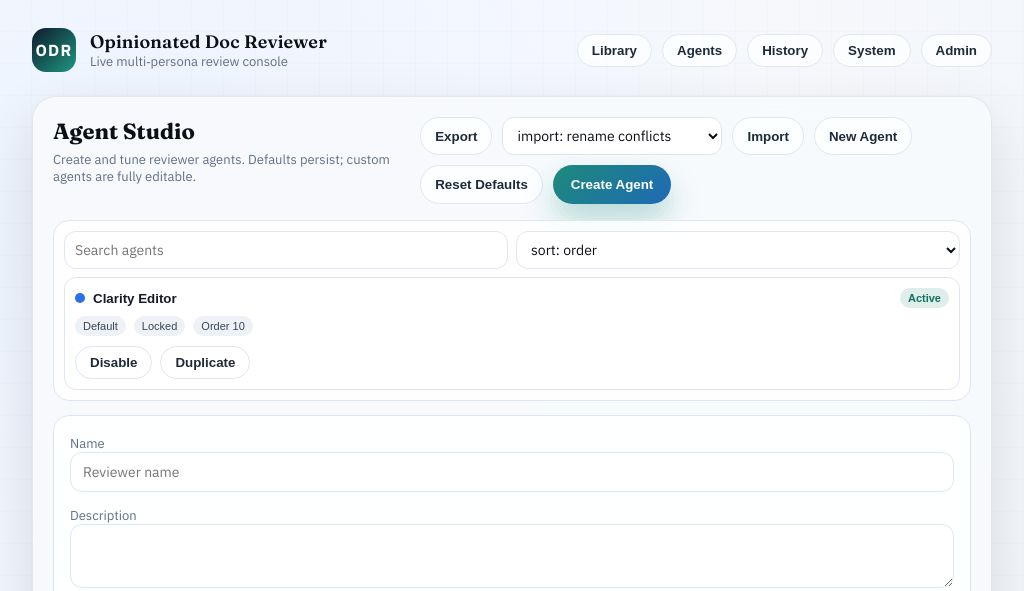
page controls › duplicates an existing agent into a create draft
Expected: the text "Clarity Editor" is shown, [93,290,177,306]
Click the button "Duplicate" at (205, 362), box [160,346,250,379]
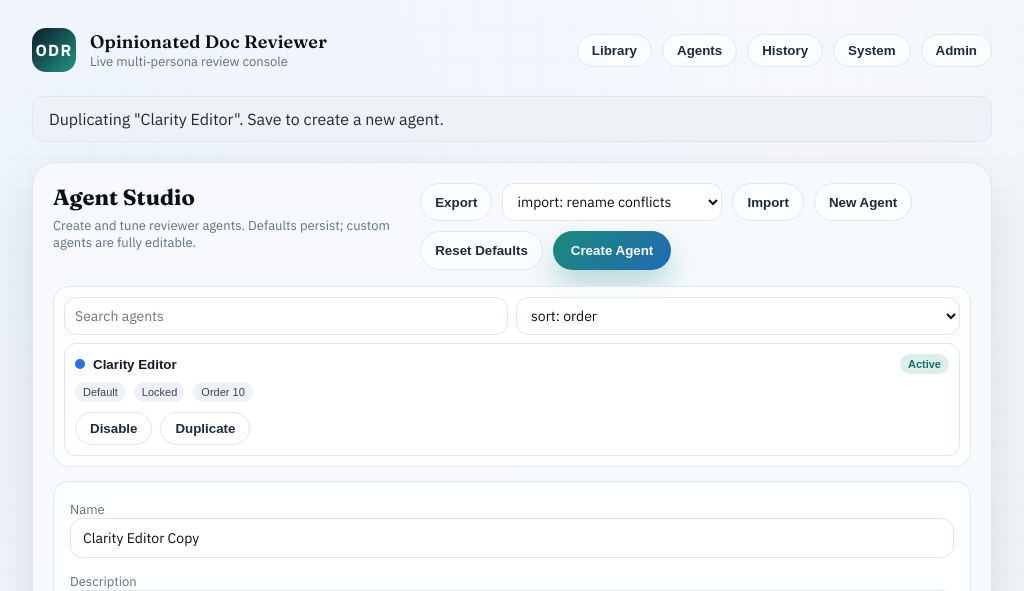
Expected: the button "Create Agent" is shown, [553,231,671,270]
Expected: the field showing "Clarity Editor Copy" is shown, [70,518,954,558]
